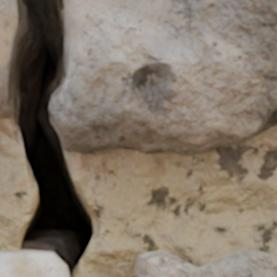brick: (134, 250, 276, 276), (0, 251, 67, 276)
broken_brick: (50, 0, 276, 156), (0, 0, 15, 113)
crack: (0, 0, 99, 276)
